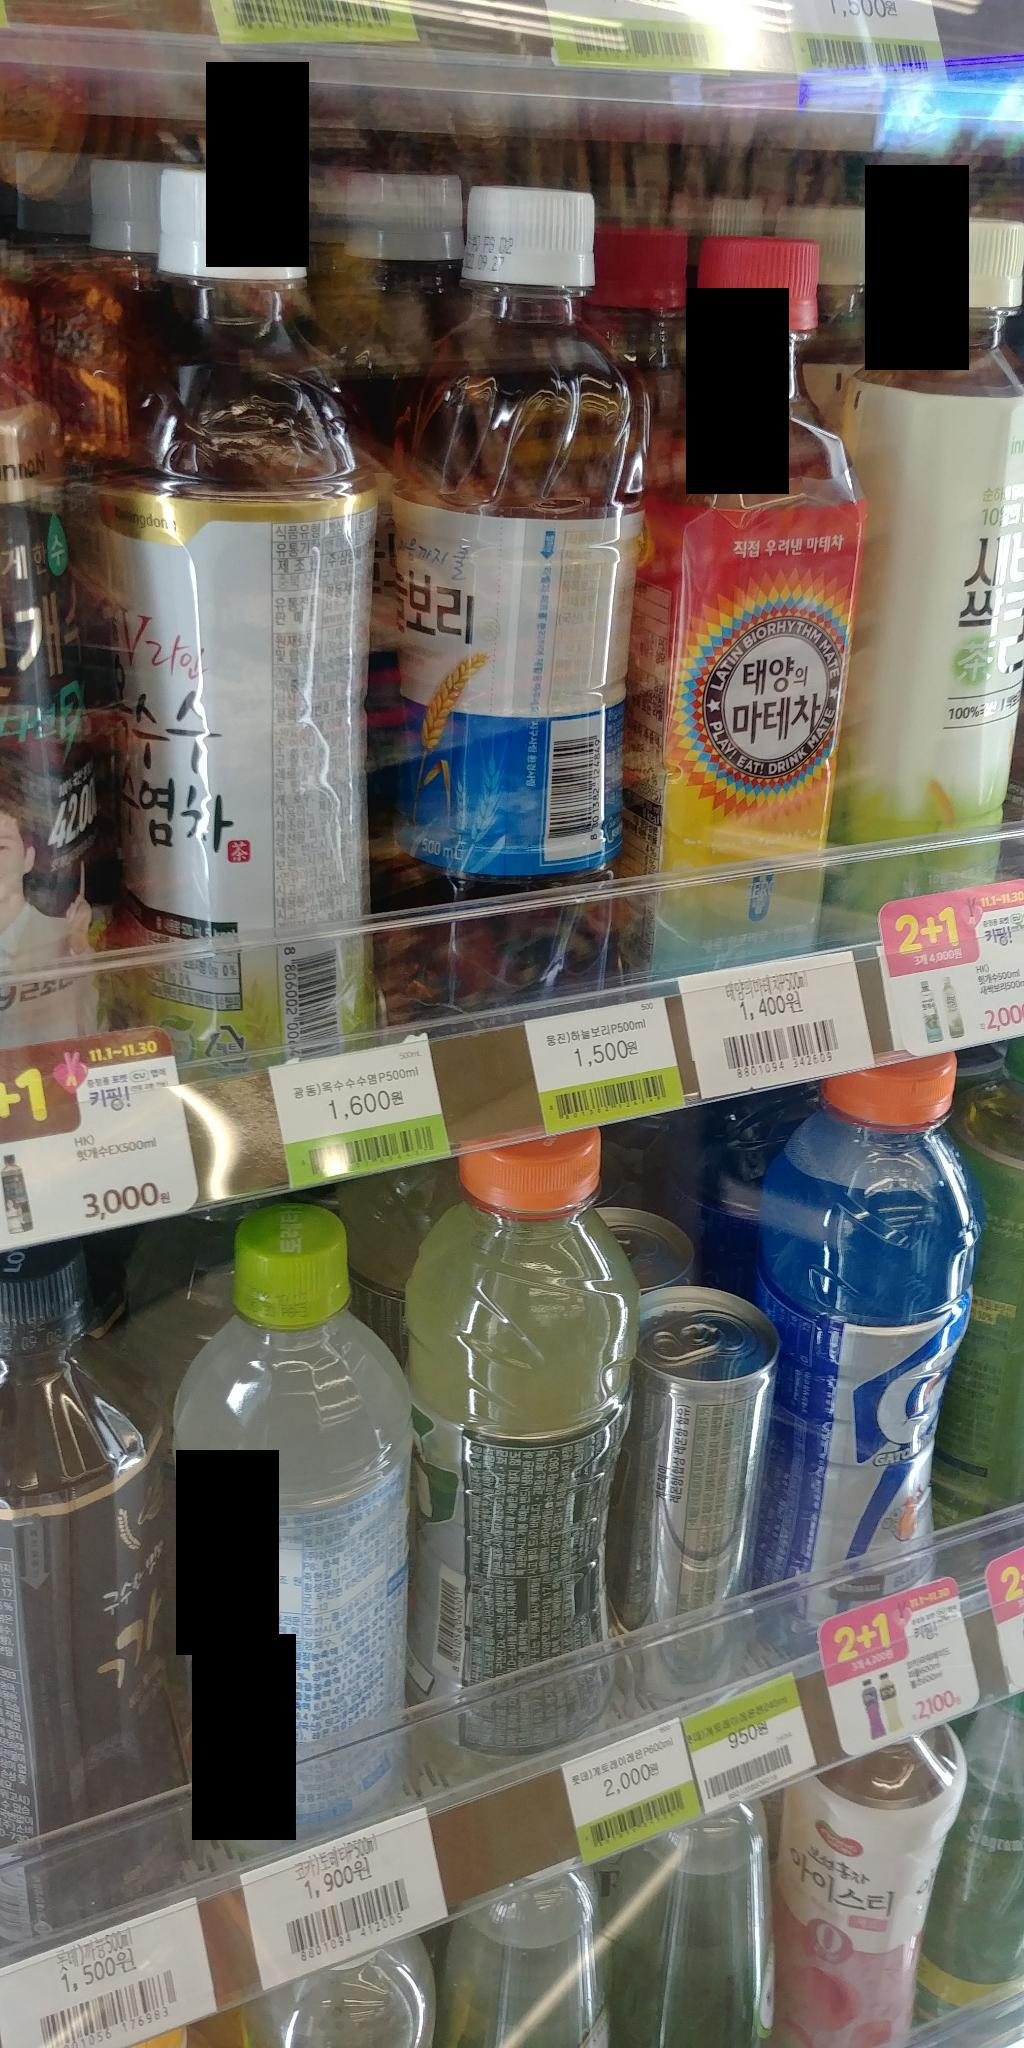gatorade_lemon: (405, 1122, 645, 1754)
haneulbori: (358, 192, 632, 1014)
oksususuyeomcha: (74, 155, 396, 1061)
toreta: (158, 1206, 421, 1838)
